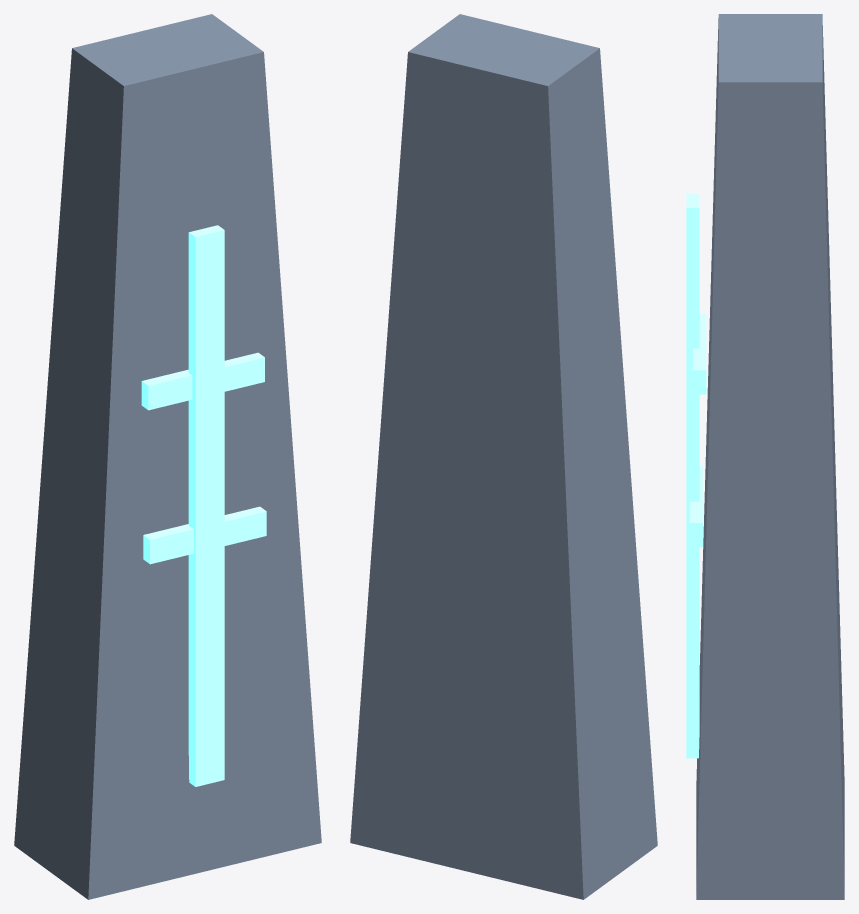
File: dc_elder_slab.glb
The picture shows the model from 3 angles, left to right: view 1: azimuth 30°, elevation 25°; view 2: azimuth 150°, elevation 25°; view 3: azimuth 270°, elevation 25°; orthographic projection.
Parts seen in each view (by area): view 1: part.dc_elder_slab; view 2: part.dc_elder_slab; view 3: part.dc_elder_slab.
Part boxes in pixels (x1=…): part.dc_elder_slab: x1=14, y1=14, x2=321, y2=899; part.dc_elder_slab: x1=350, y1=14, x2=657, y2=899; part.dc_elder_slab: x1=686, y1=14, x2=844, y2=899.
Bounding box in the file's own units: 0.4 × 1.3 × 0.235.
